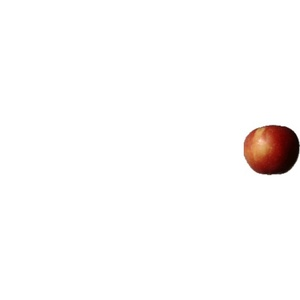maçã braeburn: (242, 123, 295, 175)
